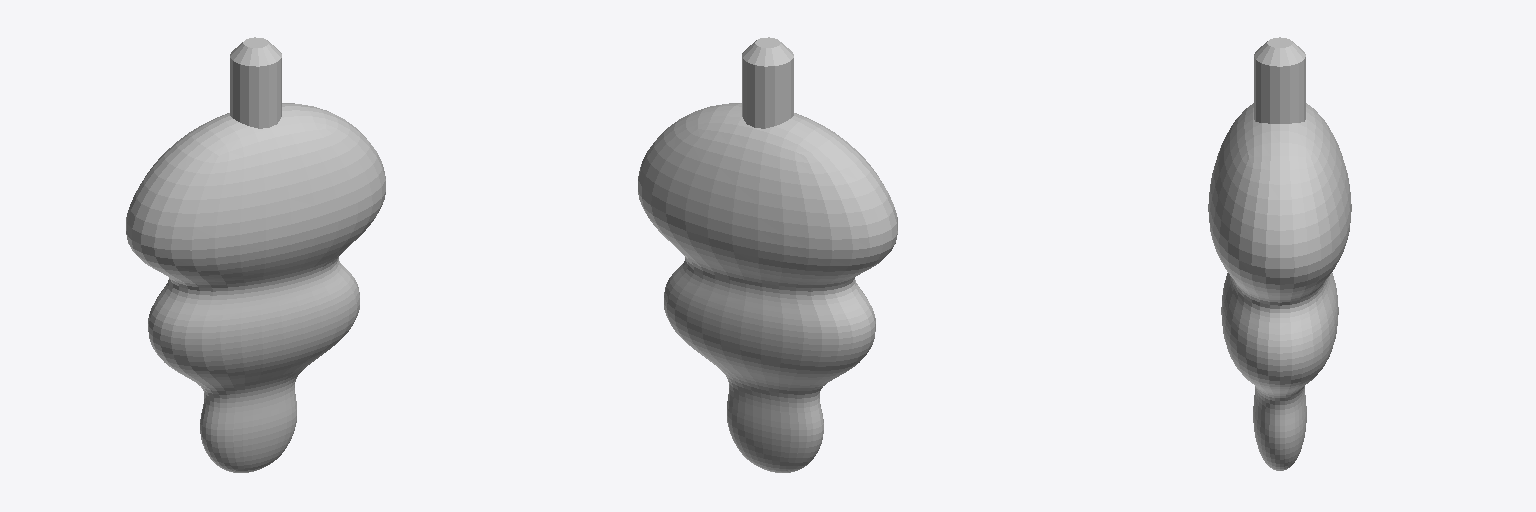
File: Leaf2.obj
3 renders of one model, left to right at view 1: azimuth 30°, elevation 25°; view 2: azimuth 150°, elevation 25°; view 3: azimuth 270°, elevation 25°, orthographic.
Visible parts, largest first — view 1: Cylinder.001; view 2: Cylinder.001; view 3: Cylinder.001.
Boxes of the visible parts, x1=… form: Cylinder.001: x1=126, y1=37, x2=385, y2=472; Cylinder.001: x1=638, y1=37, x2=897, y2=472; Cylinder.001: x1=1208, y1=37, x2=1351, y2=470.
Bounding box in the file's own units: 2.05 × 3.35 × 1.02.